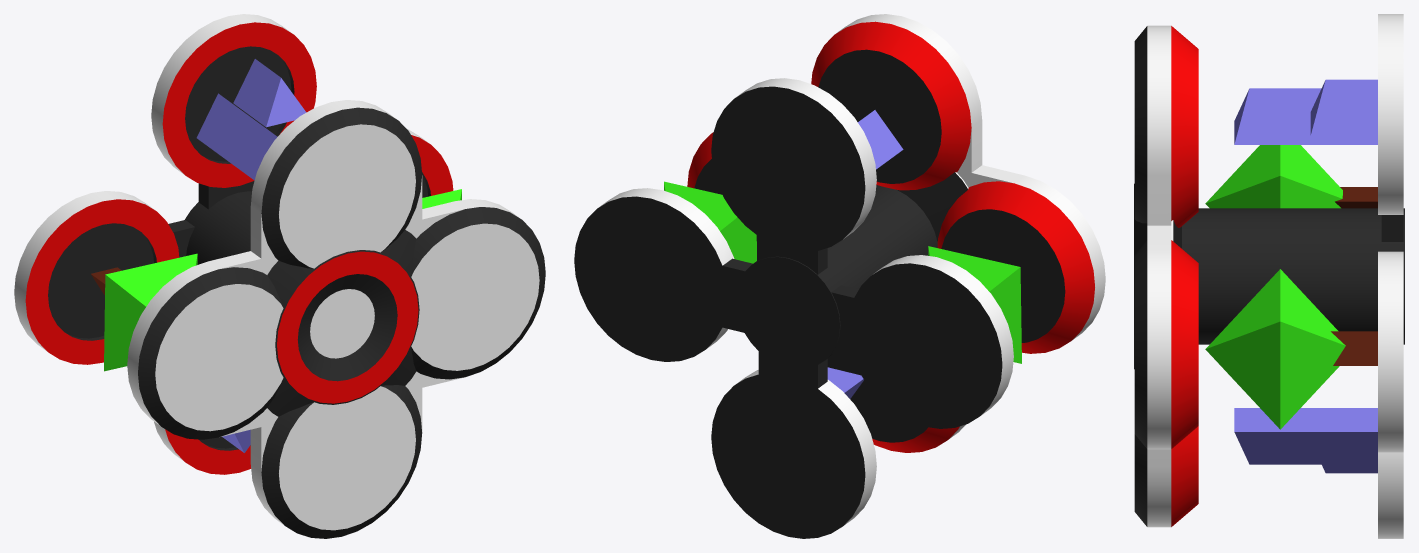
The model's file is plantation.obj.
3 renders of one model, left to right at view 1: azimuth 30°, elevation 25°; view 2: azimuth 150°, elevation 25°; view 3: azimuth 270°, elevation 25°, orthographic. The views are drawn at different scales.
Visible parts, largest first — view 1: Cylinder.001, Cylinder.003, Cylinder_Cylinder.003, Cylinder.002_Cylinder.003, Cylinder.004_Cylinder.003, Cylinder.012_Cylinder.007, Cylinder.011_Cylinder.007, Sphere.002_Sphere.001, Cylinder.007_Cylinder.005, Cylinder.008_Cylinder.006, Cylinder.013_Cylinder.007, Cylinder.014_Cylinder.007; view 2: Cylinder.011_Cylinder.007, Cylinder.012_Cylinder.007, Cylinder.013_Cylinder.007, Cylinder.014_Cylinder.007, Cylinder_Cylinder.003, Cylinder.003, Cylinder.001, Cylinder.002_Cylinder.003, Sphere.002_Sphere.001, Sphere.001, Cylinder.007_Cylinder.005, Cylinder.004_Cylinder.003 (+1 smaller); view 3: Cylinder.001, Cylinder.004_Cylinder.003, Cylinder_Cylinder.003, Sphere.001, Cylinder.009_Cylinder.005, Sphere.002_Sphere.001, Cylinder.011_Cylinder.007, Cylinder.014_Cylinder.007, Cylinder.002_Cylinder.003, Cylinder.007_Cylinder.005, Cylinder.008_Cylinder.006, Cylinder.013_Cylinder.007 (+3 smaller).
Part boxes in pixels (bbox=[...]): Cylinder.001: bbox=[185, 191, 419, 416]; Cylinder.003: bbox=[127, 251, 283, 439]; Cylinder_Cylinder.003: bbox=[250, 100, 422, 274]; Cylinder.002_Cylinder.003: bbox=[250, 378, 422, 538]; Cylinder.004_Cylinder.003: bbox=[405, 199, 545, 389]; Cylinder.012_Cylinder.007: bbox=[14, 191, 194, 364]; Cylinder.011_Cylinder.007: bbox=[151, 14, 316, 209]; Sphere.002_Sphere.001: bbox=[104, 253, 197, 371]; Cylinder.007_Cylinder.005: bbox=[196, 93, 277, 180]; Cylinder.008_Cylinder.006: bbox=[233, 59, 306, 127]; Cylinder.013_Cylinder.007: bbox=[154, 421, 251, 474]; Cylinder.014_Cylinder.007: bbox=[407, 129, 453, 197]; Cylinder.011_Cylinder.007: bbox=[711, 78, 876, 274]; Cylinder.012_Cylinder.007: bbox=[831, 255, 1013, 428]; Cylinder.013_Cylinder.007: bbox=[711, 351, 876, 538]; Cylinder.014_Cylinder.007: bbox=[574, 188, 752, 361]; Cylinder_Cylinder.003: bbox=[811, 14, 982, 190]; Cylinder.003: bbox=[937, 165, 1105, 353]; Cylinder.001: bbox=[735, 172, 968, 369]; Cylinder.002_Cylinder.003: bbox=[827, 354, 965, 452]; Sphere.002_Sphere.001: bbox=[928, 246, 1021, 363]; Sphere.001: bbox=[664, 181, 756, 263]; Cylinder.007_Cylinder.005: bbox=[858, 110, 903, 169]; Cylinder.004_Cylinder.003: bbox=[687, 132, 758, 260]; Cylinder.001: bbox=[1134, 183, 1404, 369]; Cylinder.004_Cylinder.003: bbox=[1134, 225, 1198, 449]; Cylinder_Cylinder.003: bbox=[1134, 25, 1198, 227]; Sphere.001: bbox=[1205, 269, 1345, 429]; Cylinder.009_Cylinder.005: bbox=[1234, 408, 1377, 464]; Sphere.002_Sphere.001: bbox=[1205, 145, 1342, 208]; Cylinder.011_Cylinder.007: bbox=[1378, 14, 1403, 241]; Cylinder.014_Cylinder.007: bbox=[1378, 251, 1403, 452]; Cylinder.002_Cylinder.003: bbox=[1134, 426, 1198, 527]; Cylinder.007_Cylinder.005: bbox=[1234, 88, 1377, 144]; Cylinder.008_Cylinder.006: bbox=[1310, 79, 1377, 135]; Cylinder.013_Cylinder.007: bbox=[1378, 452, 1403, 538].
Bounding box in the file's own units: 2.08 × 2.08 × 1.01.
